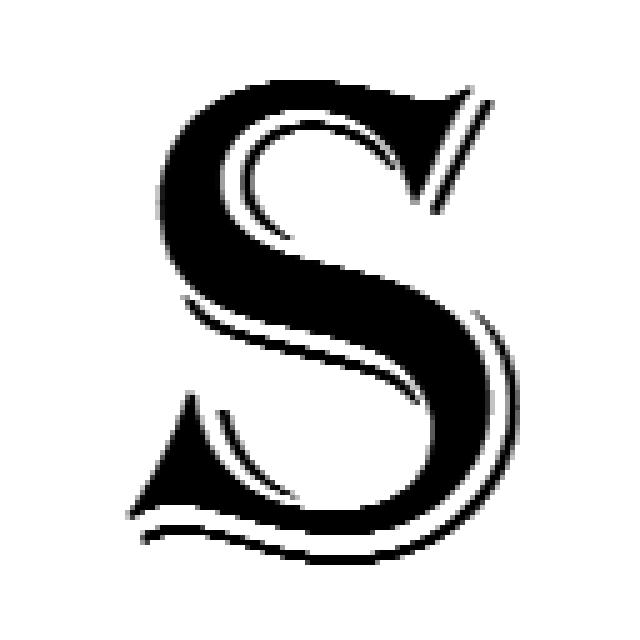S: (120, 70, 525, 570)
